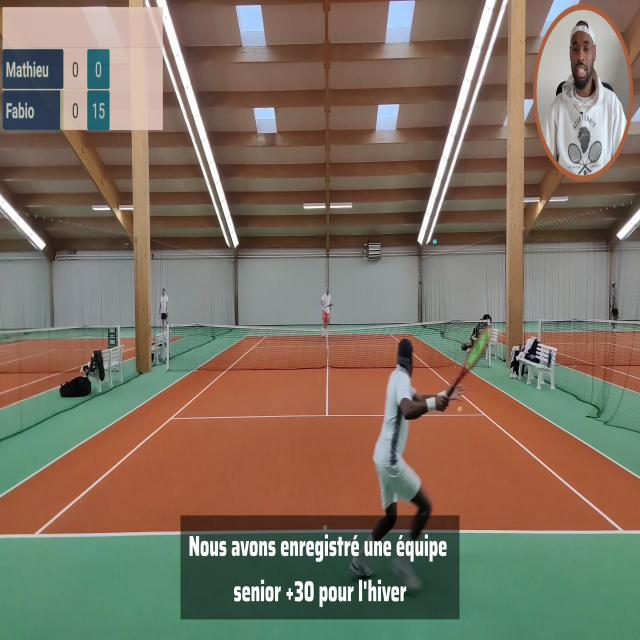ball: (457, 405, 462, 415)
